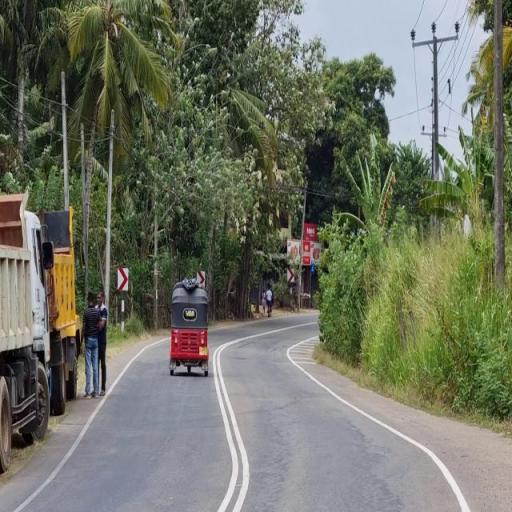double_white_line: (291, 333, 470, 512), (210, 337, 251, 512)
